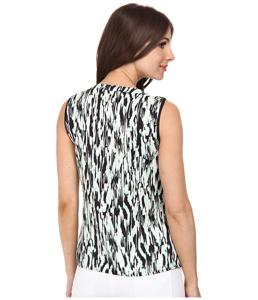C_tank top: (56, 77, 185, 278)
